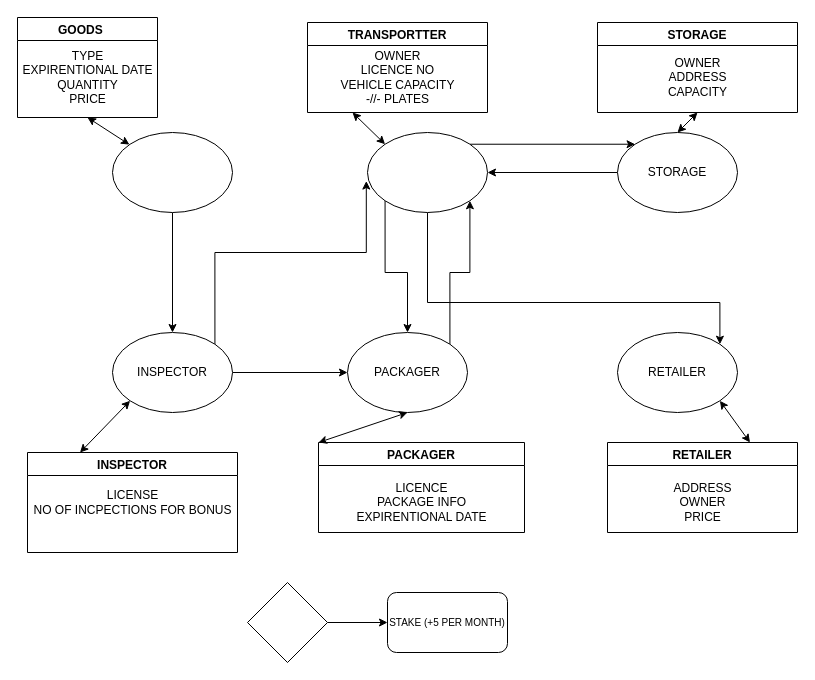
Some shapes in this 815 by 680 pixel diagram are drawn without their labels. The centre of each missing label's shape, as x and y in pixels:
FARMER: point (172, 172)
HAS 20 TOKENS: point (287, 622)
TRANSPORTER: point (427, 172)
